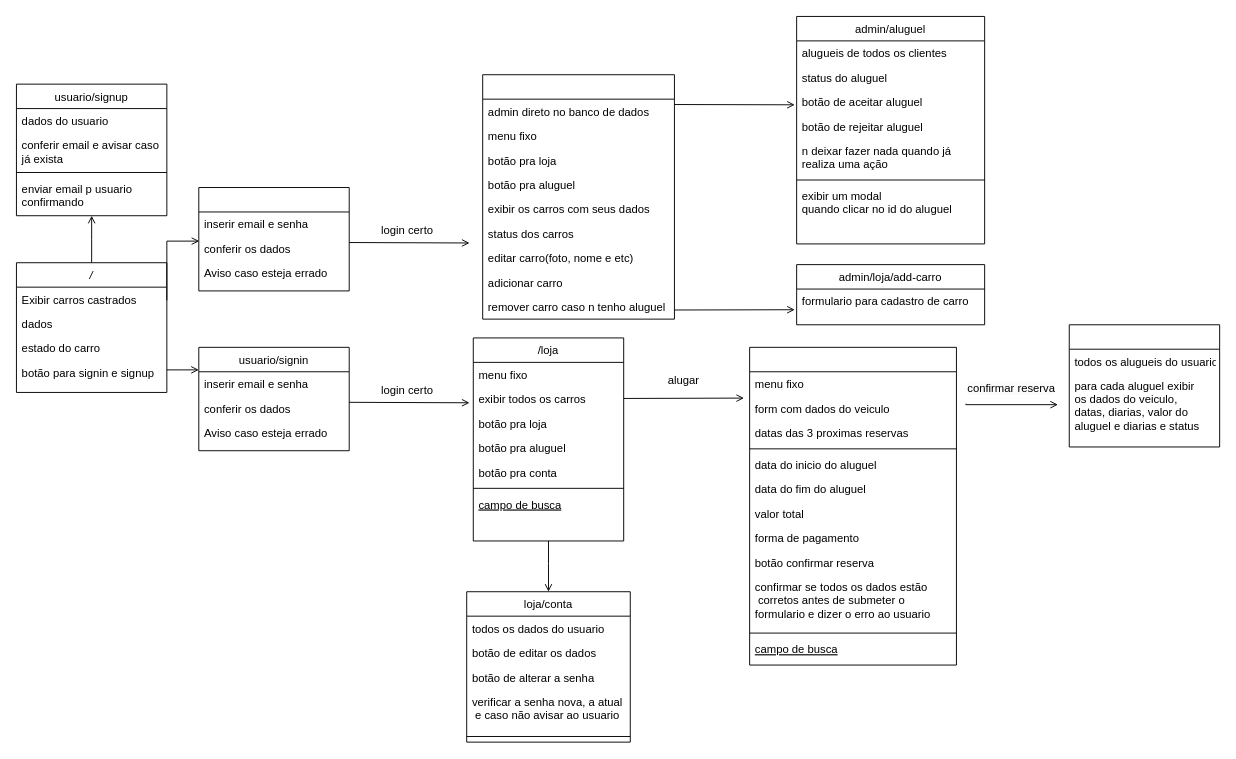
The diagram is 1236 pixels wide and 759 high, and some of its shapes have lost their labels. The box of each missing label's shape, as (x1, y1, x2, y2) in pixels:
/loja/alugar: (749, 346, 956, 665)
/loja/aluguel: (1068, 324, 1220, 447)
admin/loja: (482, 74, 674, 319)
admin/signin: (198, 187, 349, 291)
